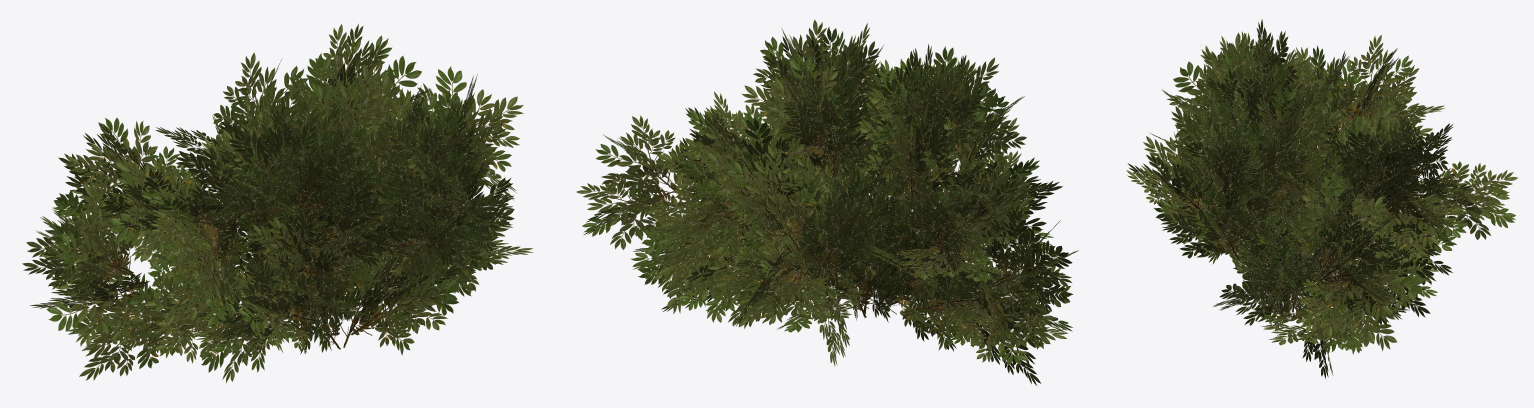
File: bush1.glb
The picture shows the model from 3 angles, left to right: view 1: azimuth 30°, elevation 25°; view 2: azimuth 150°, elevation 25°; view 3: azimuth 270°, elevation 25°; orthographic projection. The views are drawn at different scales.
Parts seen in each view (by area): view 1: ScrubBush; view 2: ScrubBush; view 3: ScrubBush.
Part boxes in pixels (x1,y1,x2,y2): ScrubBush: (22, 24, 533, 383); ScrubBush: (576, 19, 1078, 385); ScrubBush: (1126, 19, 1517, 378).
Bounding box in the file's own units: 6.18 × 3.65 × 4.8.
Materials: 1 (1 with a texture image).
